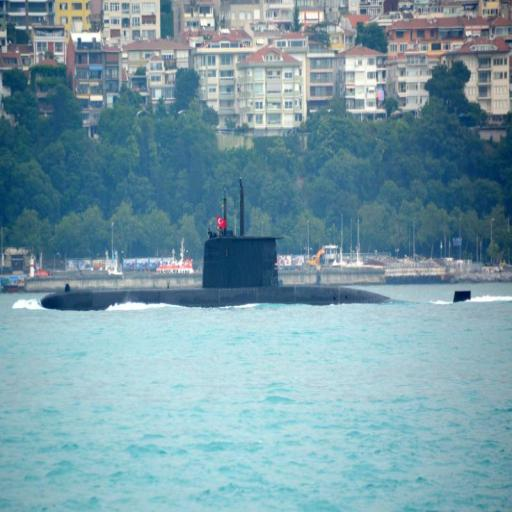submarine: (36, 235, 483, 310)
